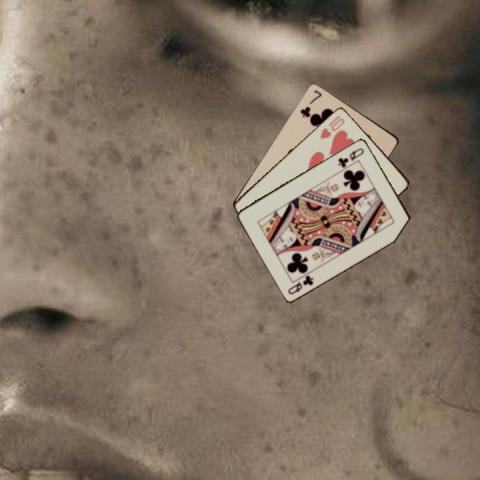10h: (317, 112, 346, 140)
7c: (297, 86, 323, 118)
Qc: (335, 144, 365, 168), (284, 272, 314, 296)
